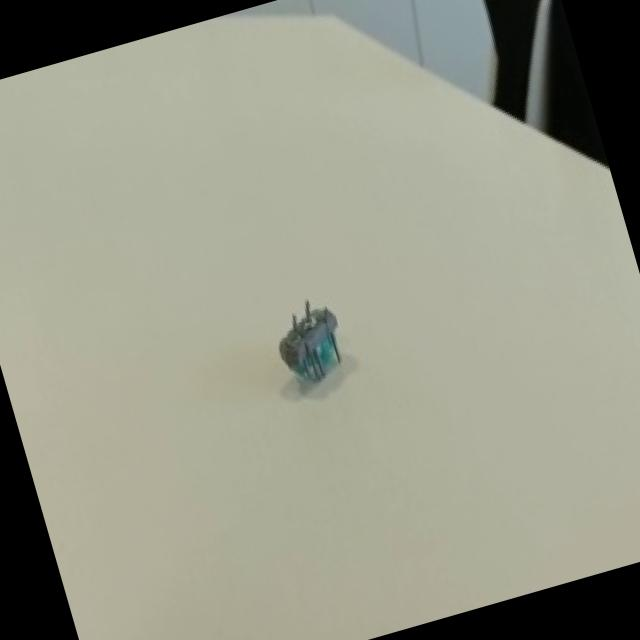5_NanoBug_GrisClaro: (248, 280, 376, 425)
